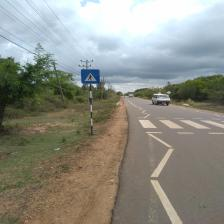blueboard: (80, 69, 100, 84)
crossing: (114, 95, 224, 223)
